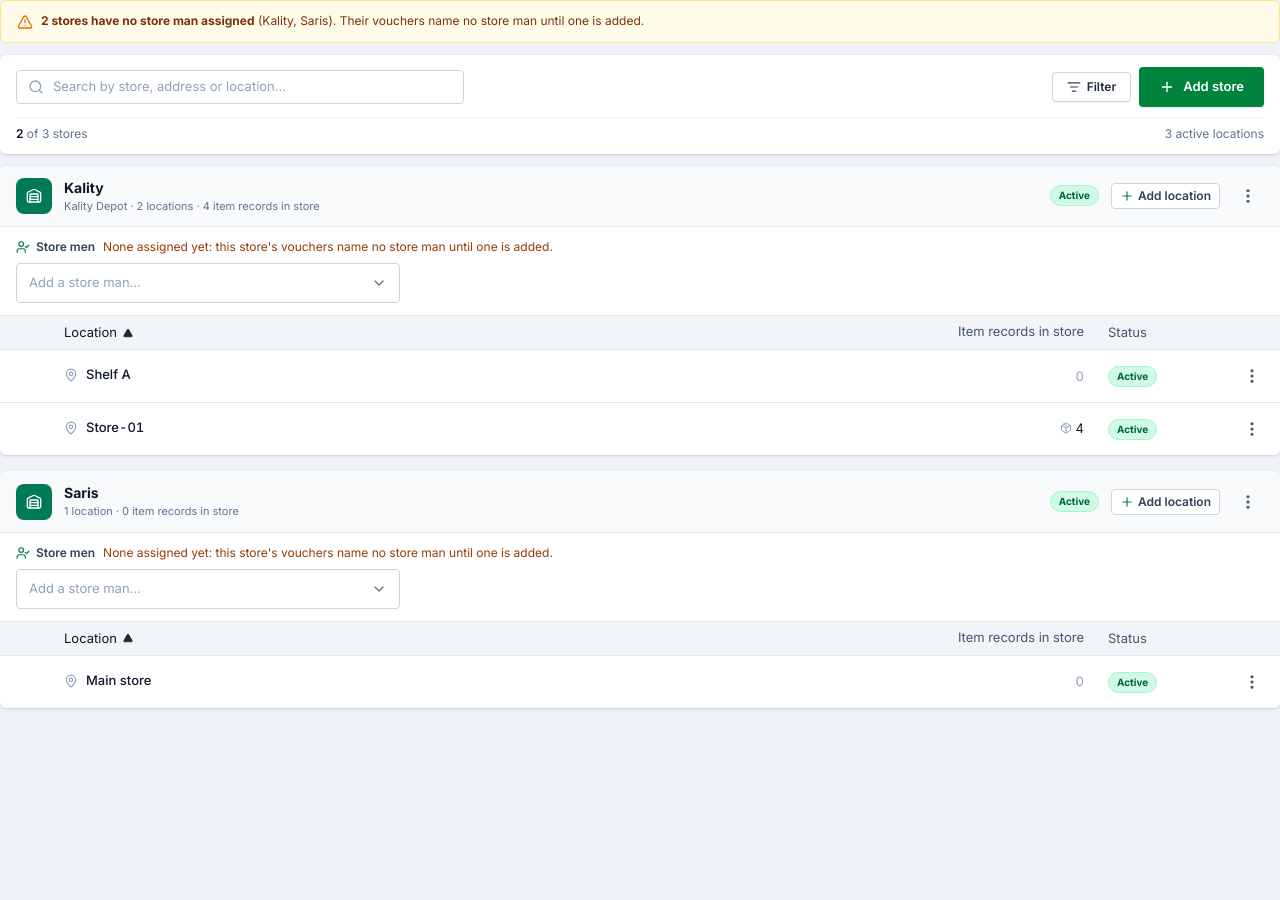
it: Stores page › shows each active store with the locations inside it
Expected: the text "Store-01" is shown, [64, 418, 144, 438]
Expected: the text "Shelf A" is shown, [64, 365, 131, 385]
Click the button with aria-label "Filter stores" at [1091, 87], box [1052, 72, 1131, 102]
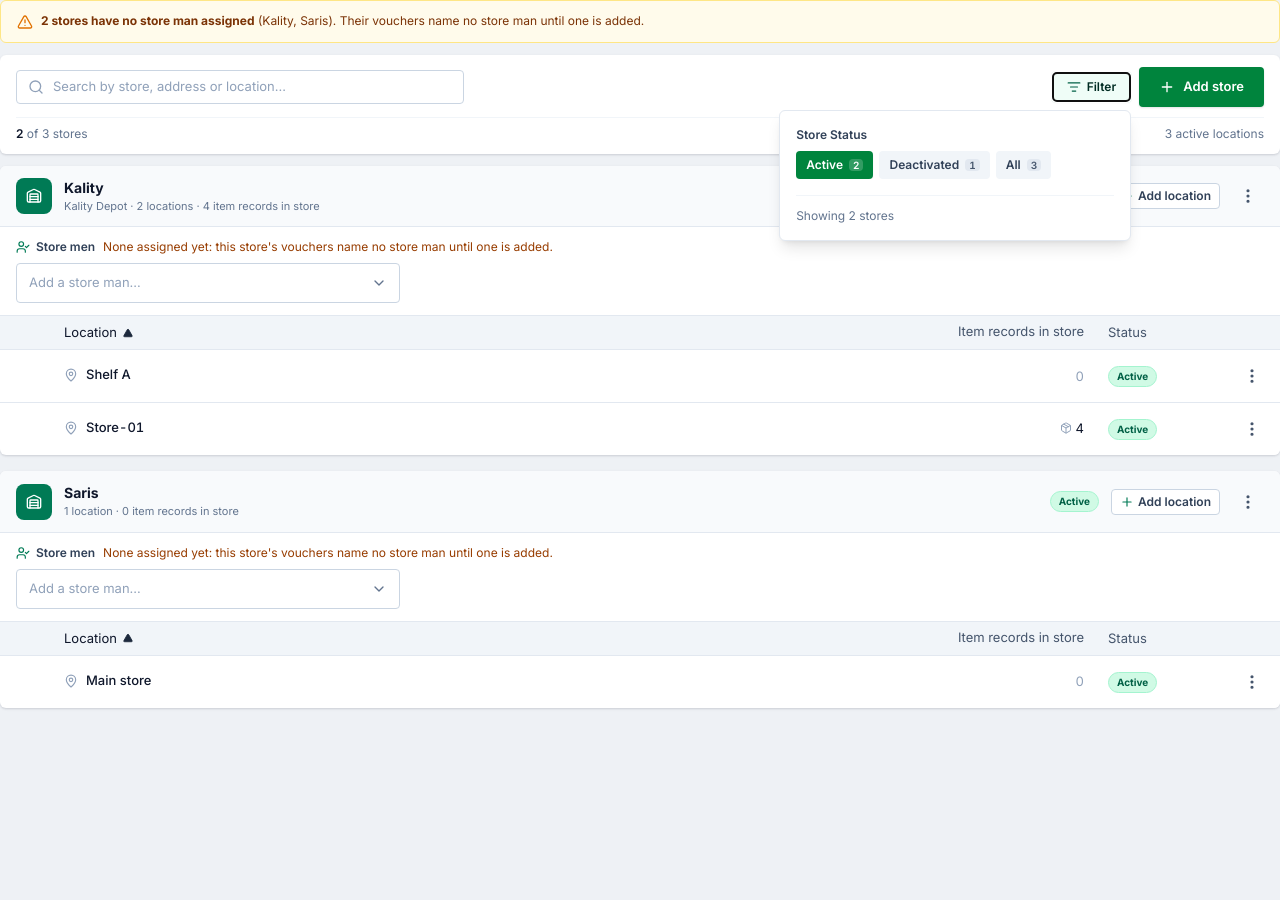
Click the button "Deactivated 1" at [935, 165], box [880, 151, 990, 179]
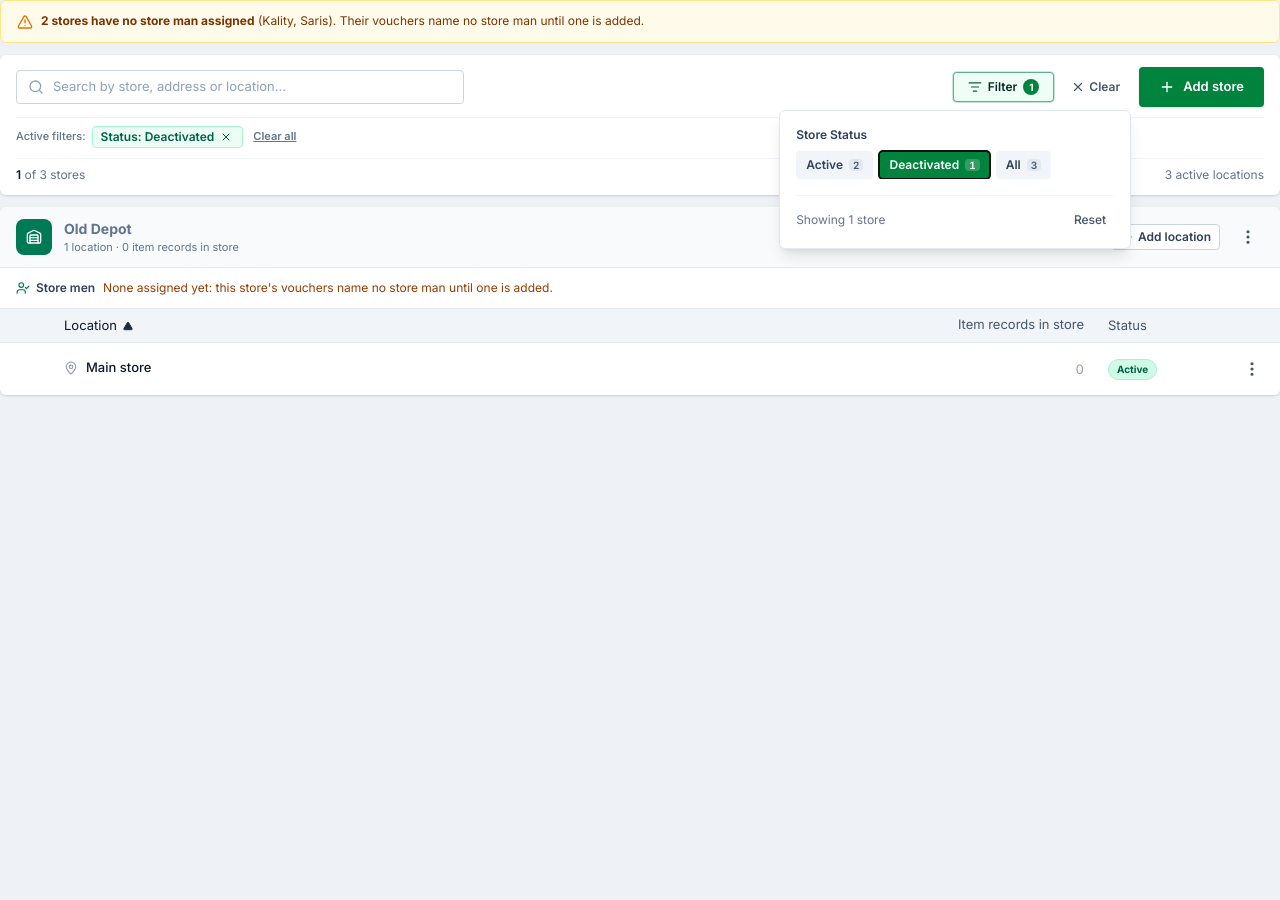
Result: the element "Old Depot" is shown at [0, 206, 1279, 395]
